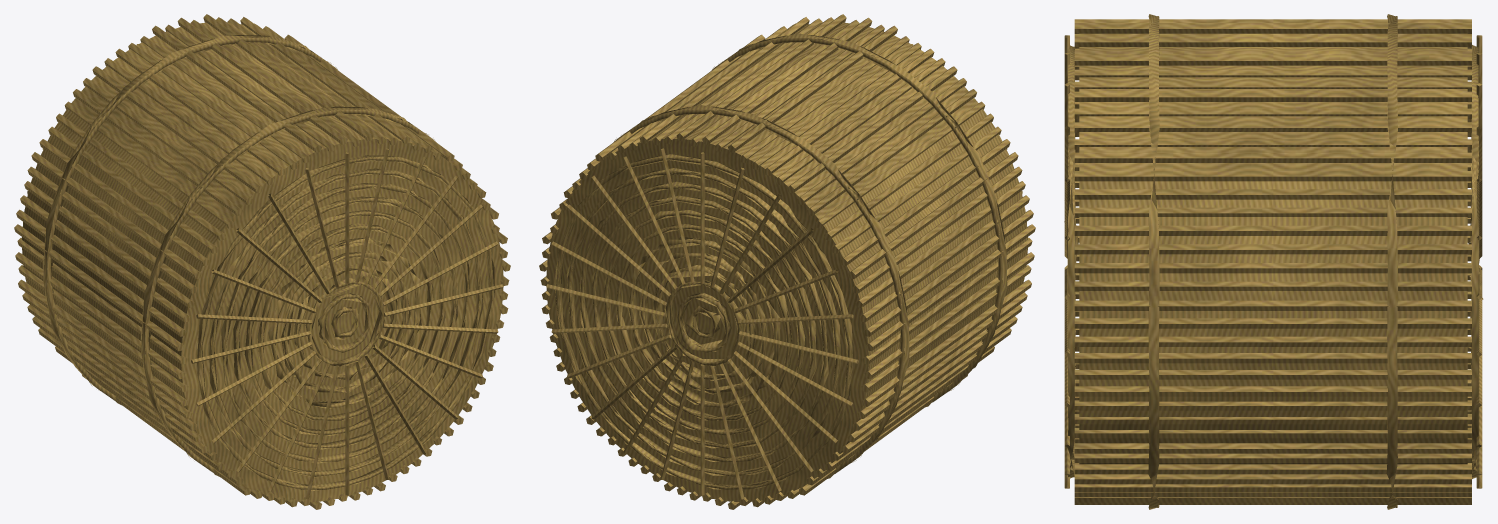
Rendered from hay_bale.glb.
The picture shows the model from 3 angles, left to right: view 1: azimuth 30°, elevation 25°; view 2: azimuth 150°, elevation 25°; view 3: azimuth 270°, elevation 25°; orthographic projection. The views are drawn at different scales.
Parts seen in each view (by area): view 1: hay_bale_premium; view 2: hay_bale_premium; view 3: hay_bale_premium.
Part boxes in pixels (x1,y1,x2,y2): hay_bale_premium: [14, 14, 510, 509]; hay_bale_premium: [539, 14, 1035, 509]; hay_bale_premium: [1064, 14, 1483, 509].
Bounding box in the file's own units: 1.6 × 1.69 × 1.41.
1 material, 1 textured.
